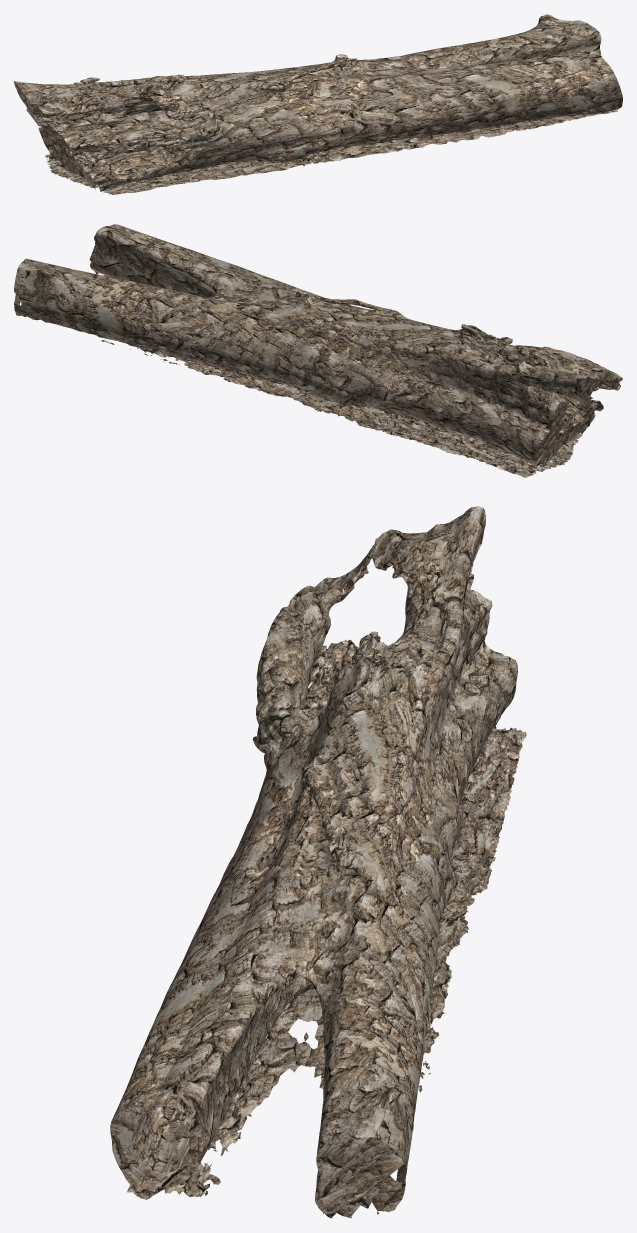
File: Log 1.fbx
The picture shows the model from 3 angles, top to bottom: view 1: azimuth 30°, elevation 25°; view 2: azimuth 150°, elevation 25°; view 3: azimuth 270°, elevation 25°; orthographic projection. The views are drawn at different scales.
Visible parts, largest first — view 1: big_strom; view 2: big_strom; view 3: big_strom.
Boxes of the visible parts, x1,y1,x2,y2 form: big_strom: [14, 14, 622, 195]; big_strom: [14, 224, 622, 477]; big_strom: [110, 506, 526, 1218].
Size of the model in its own units: 587 by 96.29 by 194.
